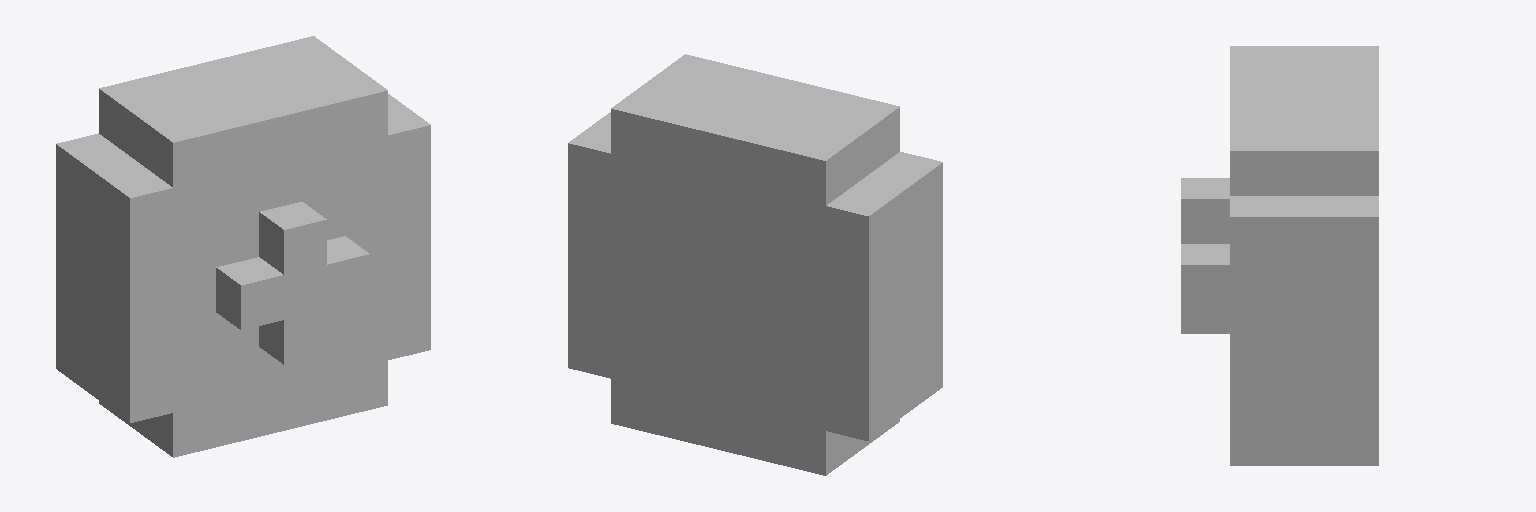
File: masochut z kolami-1.obj
The picture shows the model from 3 angles: view 1: azimuth 30°, elevation 25°; view 2: azimuth 150°, elevation 25°; view 3: azimuth 270°, elevation 25°; orthographic projection.
Parts seen in each view (by area): view 1: object 1; view 2: object 1; view 3: object 1.
Boxes of the visible parts, x1=… form: object 1: x1=56, y1=36, x2=430, y2=457; object 1: x1=568, y1=54, x2=942, y2=475; object 1: x1=1181, y1=46, x2=1378, y2=465.
Size of the model in its own units: 0.7 by 0.7 by 0.4.